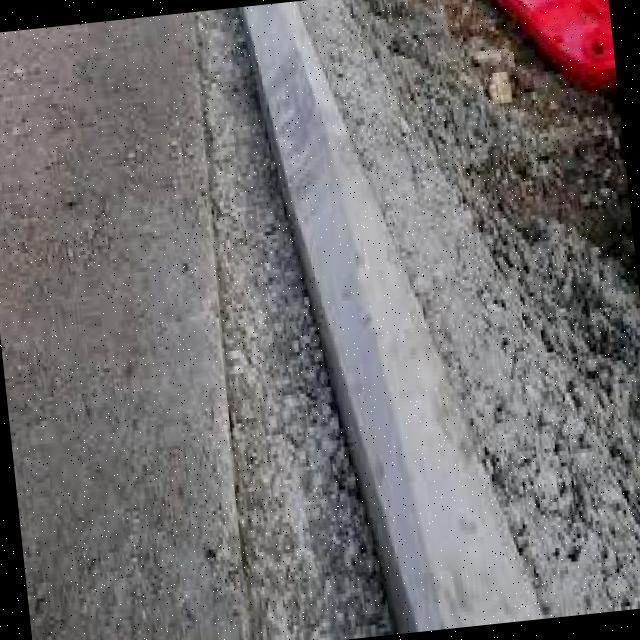curb: (247, 11, 538, 635)
